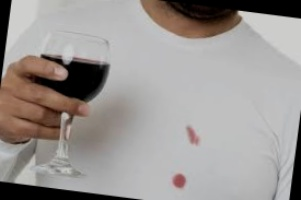wine: (183, 124, 204, 146), (168, 174, 190, 192)
